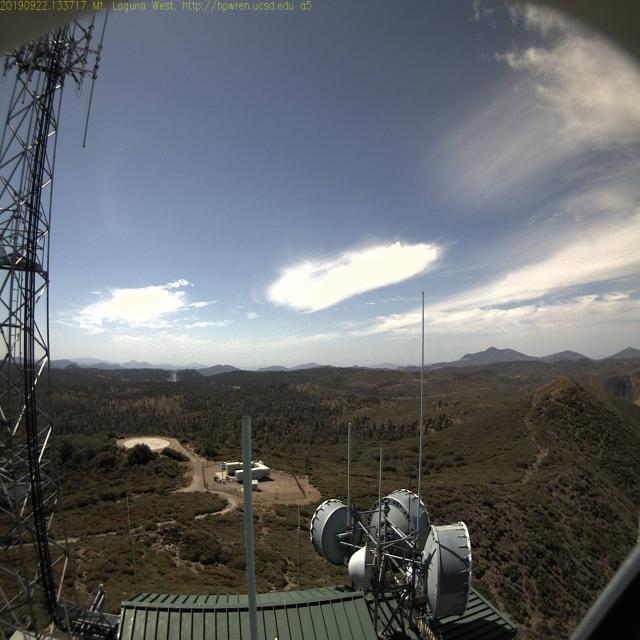smoke: (165, 360, 181, 384)
